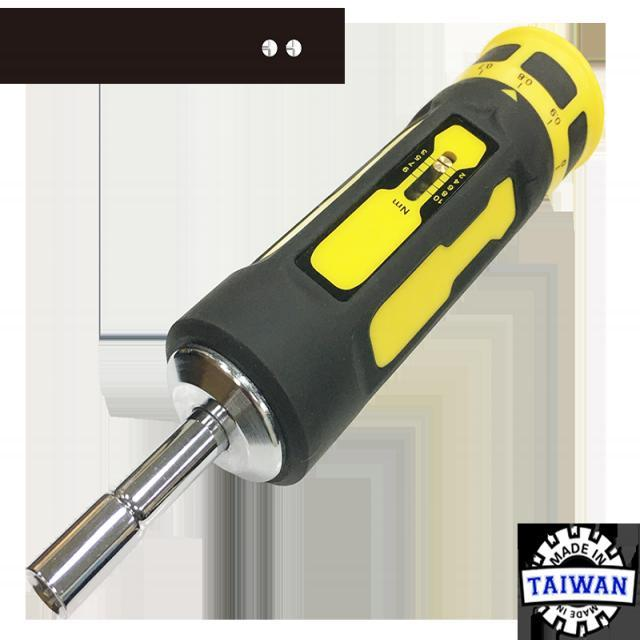screwdriver: (20, 20, 612, 622)
